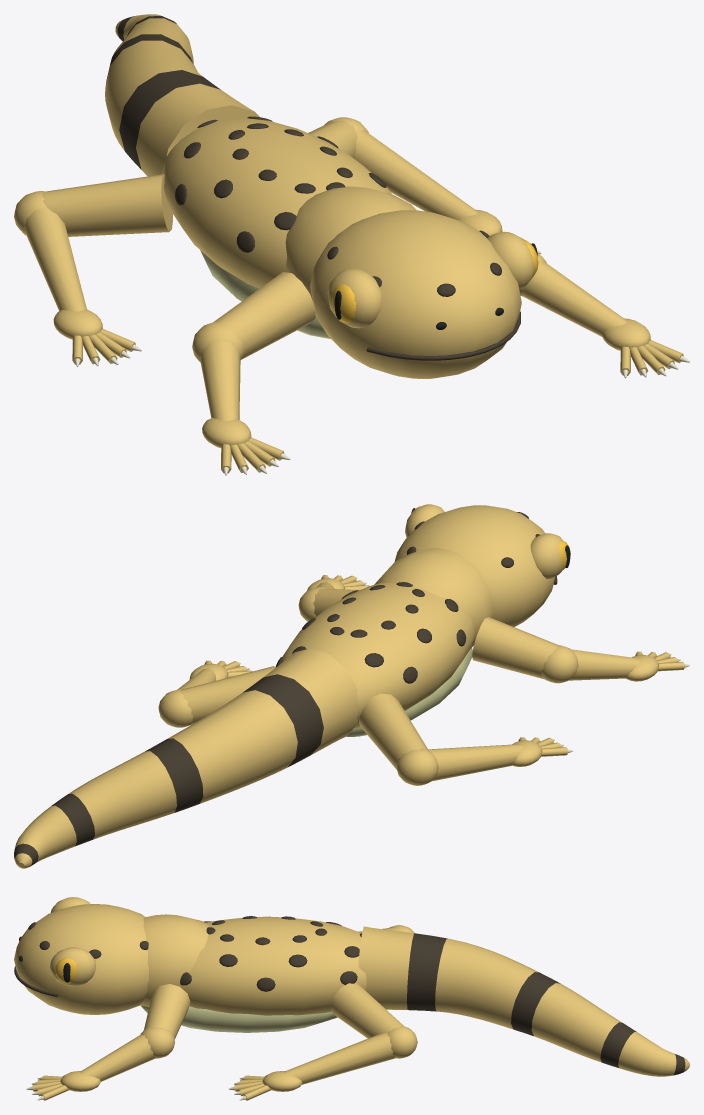
The model's file is lizard_leopard_gecko.glb.
3 renders of one model, top to bottom at view 1: azimuth 30°, elevation 25°; view 2: azimuth 150°, elevation 25°; view 3: azimuth 270°, elevation 25°, orthographic. The views are drawn at different scales.
Parts seen in each view (by area): view 1: Lizard head, Long lizard torso, Gecko thick tapered tail, Lizard upper limb.001, Connected lizard neck, Lizard upper limb, Lizard lower limb.003, Lizard lower limb.001, Lizard lower limb.002, Lizard lower limb, Raised eye socket, Raised eye socket.001 (+8 smaller); view 2: Gecko thick tapered tail, Long lizard torso, Lizard head, Connected lizard neck, Lizard upper limb, Lizard upper limb.001, Lizard lower limb.001, Lizard upper limb.003, Lizard lower limb, Lizard elbow or knee.001, Pale underside, Raised eye socket (+6 smaller); view 3: Gecko thick tapered tail, Long lizard torso, Lizard head, Connected lizard neck, Pale underside, Lizard lower limb.003, Lizard upper limb.003, Lizard upper limb.002, Lizard lower limb.002, Raised eye socket.001, Lizard elbow or knee.003, Lizard elbow or knee.002 (+3 smaller).
Part boxes in pixels (bbox=[...]): Lizard head: bbox=[310, 210, 521, 378]; Long lizard torso: bbox=[162, 117, 392, 288]; Gecko thick tapered tail: bbox=[105, 14, 259, 176]; Lizard upper limb.001: bbox=[42, 174, 172, 236]; Connected lizard neck: bbox=[285, 186, 416, 315]; Lizard upper limb: bbox=[214, 272, 315, 359]; Lizard lower limb.003: bbox=[353, 130, 477, 219]; Lizard lower limb.001: bbox=[24, 206, 86, 311]; Lizard lower limb.002: bbox=[521, 261, 627, 336]; Lizard lower limb: bbox=[199, 340, 240, 420]; Raised eye socket: bbox=[327, 268, 381, 328]; Raised eye socket.001: bbox=[487, 231, 534, 289]; Gecko thick tapered tail: bbox=[14, 648, 358, 868]; Long lizard torso: bbox=[281, 582, 475, 728]; Lizard head: bbox=[394, 505, 555, 627]; Connected lizard neck: bbox=[374, 547, 494, 647]; Lizard upper limb: bbox=[472, 617, 557, 679]; Lizard upper limb.001: bbox=[359, 693, 427, 769]; Lizard lower limb.001: bbox=[428, 744, 523, 781]; Lizard upper limb.003: bbox=[180, 666, 274, 725]; Lizard lower limb: bbox=[569, 649, 640, 680]; Lizard elbow or knee.001: bbox=[396, 748, 438, 785]; Pale underside: bbox=[346, 648, 472, 736]; Raised eye socket: bbox=[530, 533, 563, 578]; Gecko thick tapered tail: bbox=[358, 926, 689, 1076]; Long lizard torso: bbox=[181, 916, 366, 1015]; Lizard head: bbox=[14, 904, 148, 1014]; Connected lizard neck: bbox=[140, 914, 208, 1007]; Pale underside: bbox=[140, 1005, 337, 1032]; Lizard lower limb.003: bbox=[283, 1032, 395, 1084]; Lizard upper limb.003: bbox=[331, 983, 404, 1038]; Lizard upper limb.002: bbox=[144, 984, 190, 1039]; Lizard lower limb.002: bbox=[80, 1034, 155, 1081]; Raised eye socket.001: bbox=[49, 947, 96, 986]; Lizard elbow or knee.003: bbox=[387, 1026, 417, 1058]; Lizard elbow or knee.002: bbox=[140, 1027, 174, 1058].
Bounding box in the file's own units: 0.1919 × 0.0666 × 0.3553.
